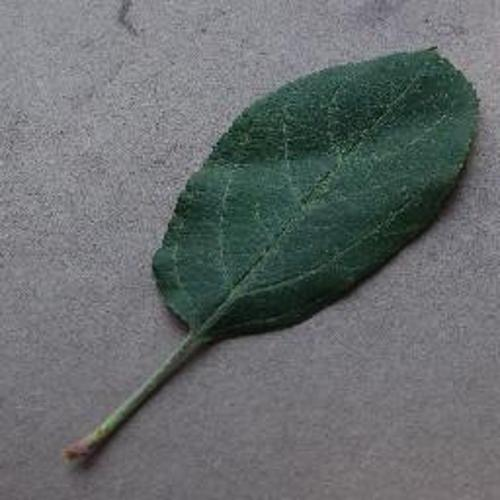Apple: (68, 47, 480, 464)
